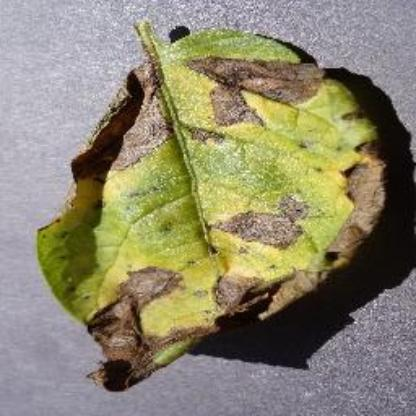Early-Blight: (33, 9, 402, 393)
